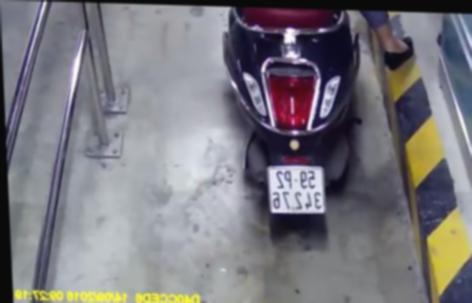License_Plate: (260, 161, 330, 218)
